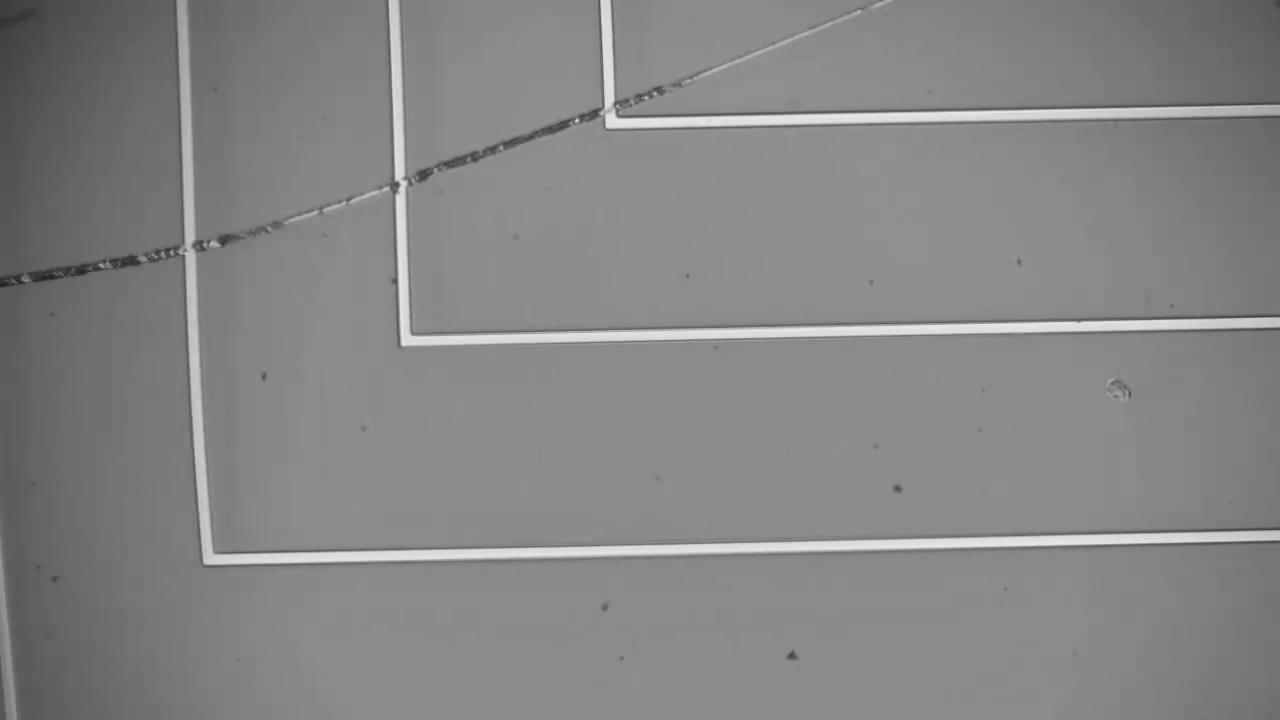scratch: (12, 1, 912, 297)
